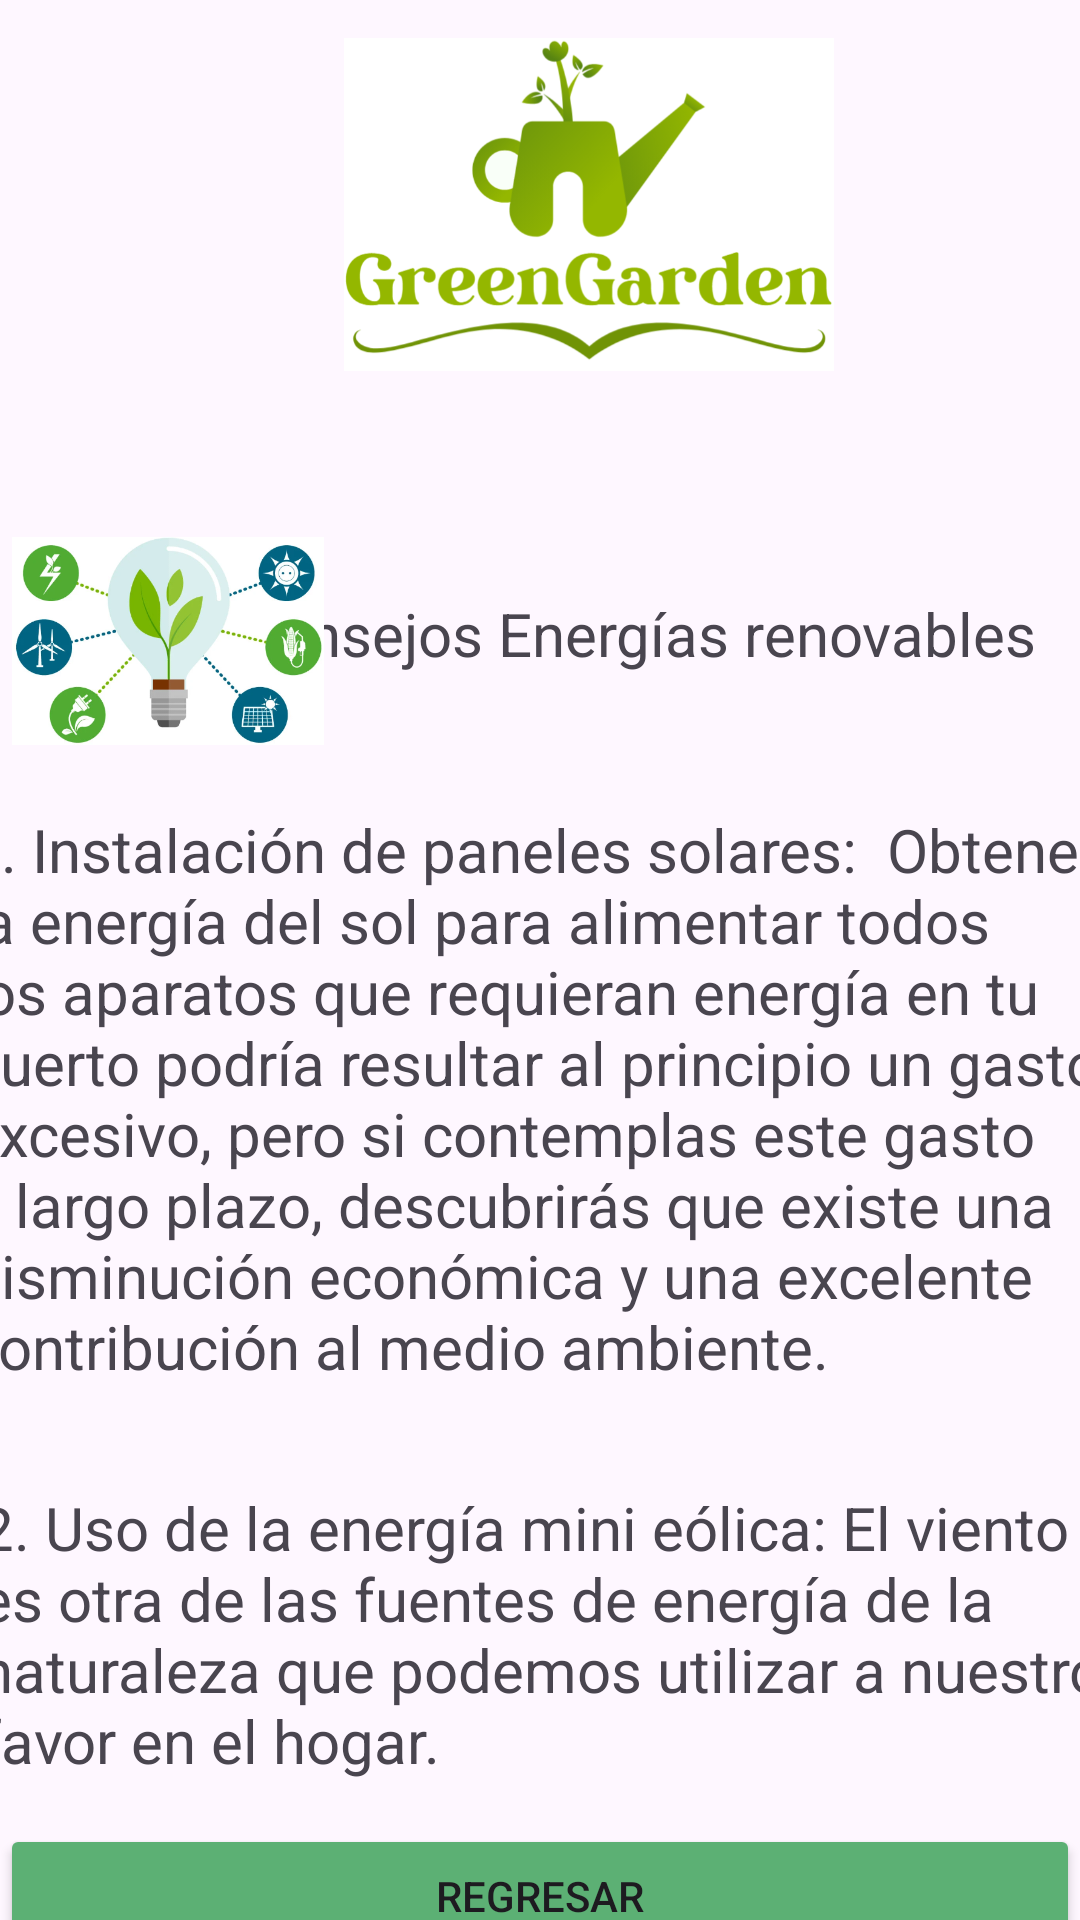

Named icons in this screenshot (1080×1920) and their centers, [x,y]:
energia: [169,640]
